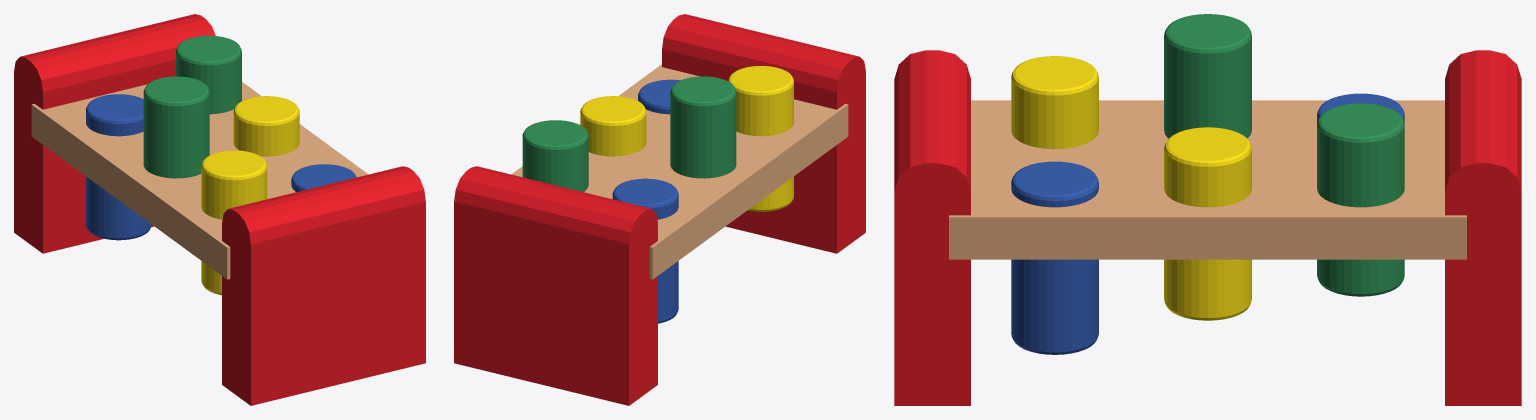
File: toy_table.fbx
3 renders of one model, left to right at view 1: azimuth 30°, elevation 25°; view 2: azimuth 150°, elevation 25°; view 3: azimuth 270°, elevation 25°, orthographic. The views are drawn at different scales.
Visible parts, largest first — view 1: ToyTable; view 2: ToyTable; view 3: ToyTable.
Boxes of the visible parts, x1,y1,x2,y2 form: ToyTable: (14,14,425,405); ToyTable: (454,14,865,405); ToyTable: (894,14,1521,405).
Size of the model in its own units: 36.22 by 41.93 by 82.
